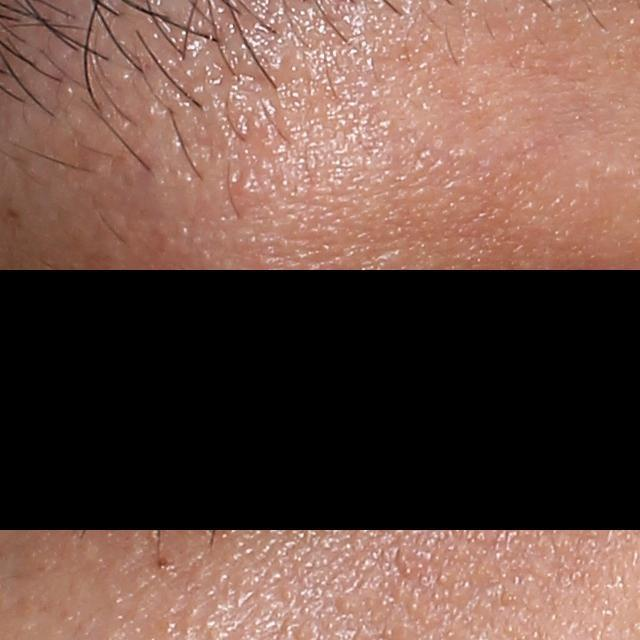nevus: (152, 553, 177, 578)
